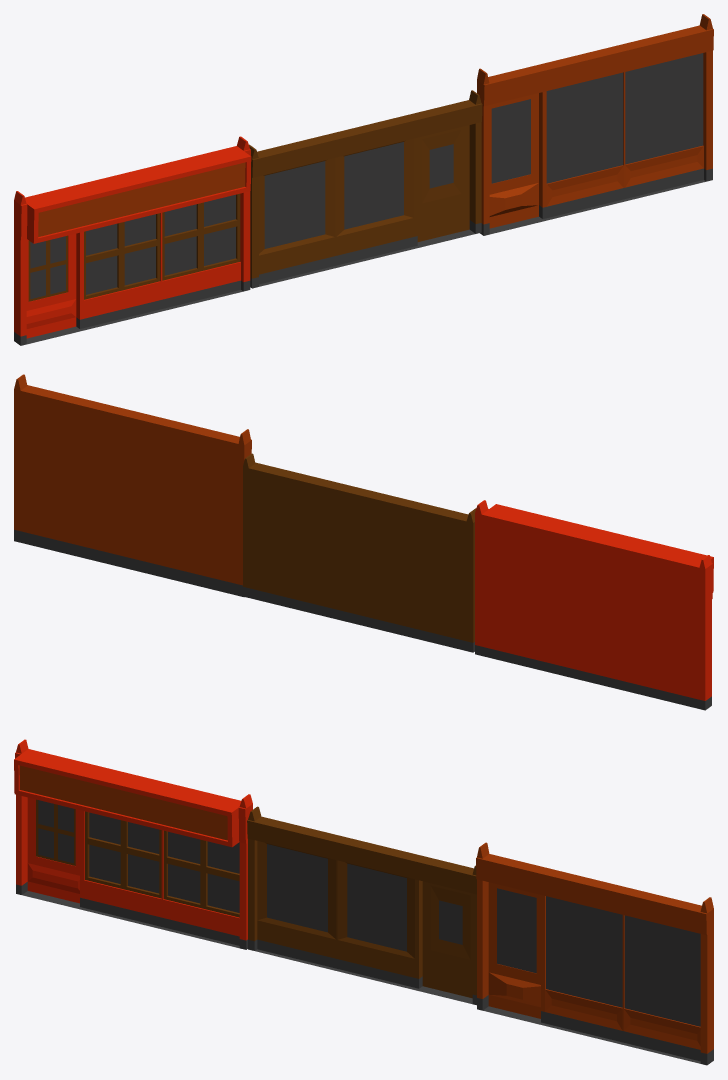
The picture shows the model from 3 angles, top to bottom: view 1: azimuth 30°, elevation 25°; view 2: azimuth 150°, elevation 25°; view 3: azimuth 330°, elevation 25°; orthographic projection.
Visible parts, largest first — view 1: Cube.001; view 2: Cube.001; view 3: Cube.001.
Boxes of the visible parts, x1,y1,x2,y2 form: Cube.001: (14, 14, 713, 345); Cube.001: (14, 374, 713, 710); Cube.001: (14, 739, 713, 1065).
Size of the model in its own units: 1172 by 262 by 42.52.
